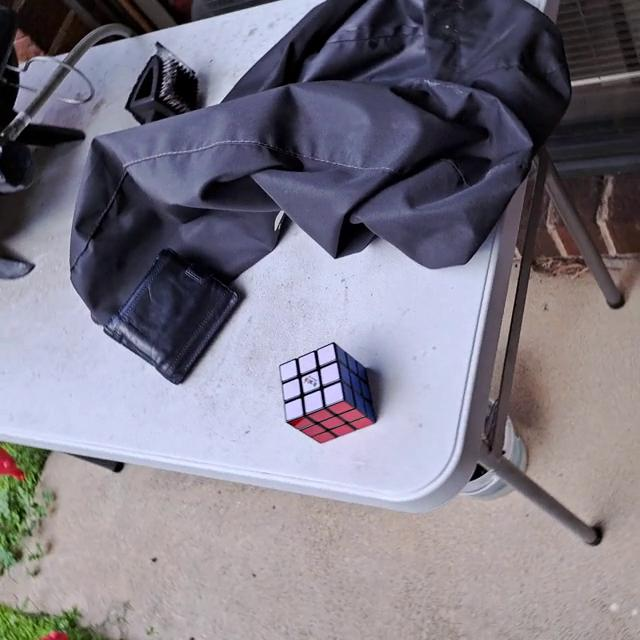rubix_cube: (272, 340, 380, 445)
